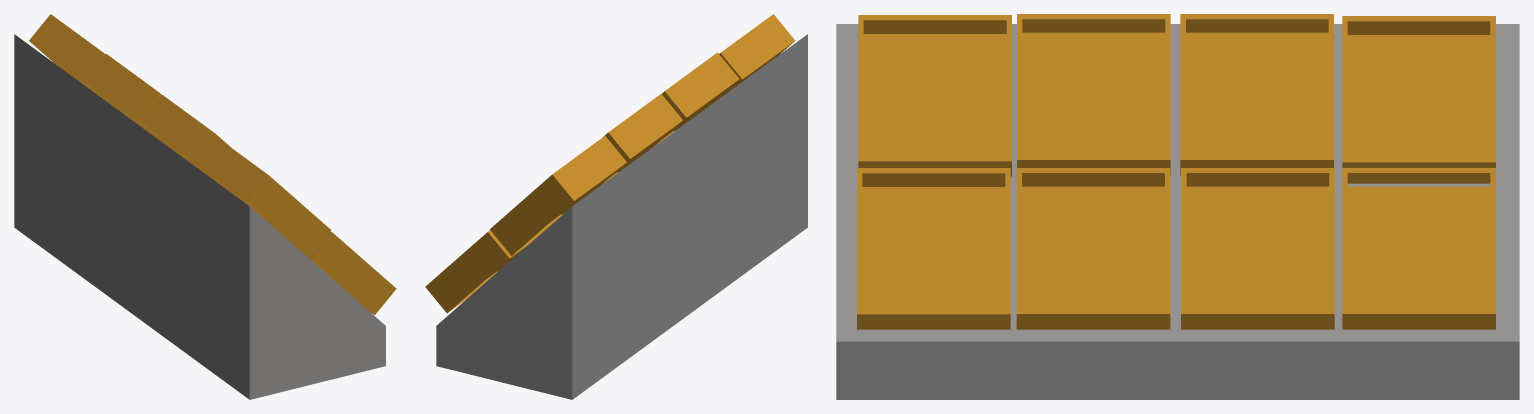
File: cajones.fbx
3 views of the same model, side by side, from view 1: azimuth 30°, elevation 25°; view 2: azimuth 150°, elevation 25°; view 3: azimuth 270°, elevation 25° (orthographic). The views are drawn at different scales.
Visible parts, largest first — view 1: FrutaYVerdura; view 2: FrutaYVerdura; view 3: FrutaYVerdura.
Boxes of the visible parts, <box> form: FrutaYVerdura: <box>14,14,396,399</box>; FrutaYVerdura: <box>425,14,807,399</box>; FrutaYVerdura: <box>836,14,1519,399</box>.
Bounding box in the file's own units: 78.09 × 103 × 205.
